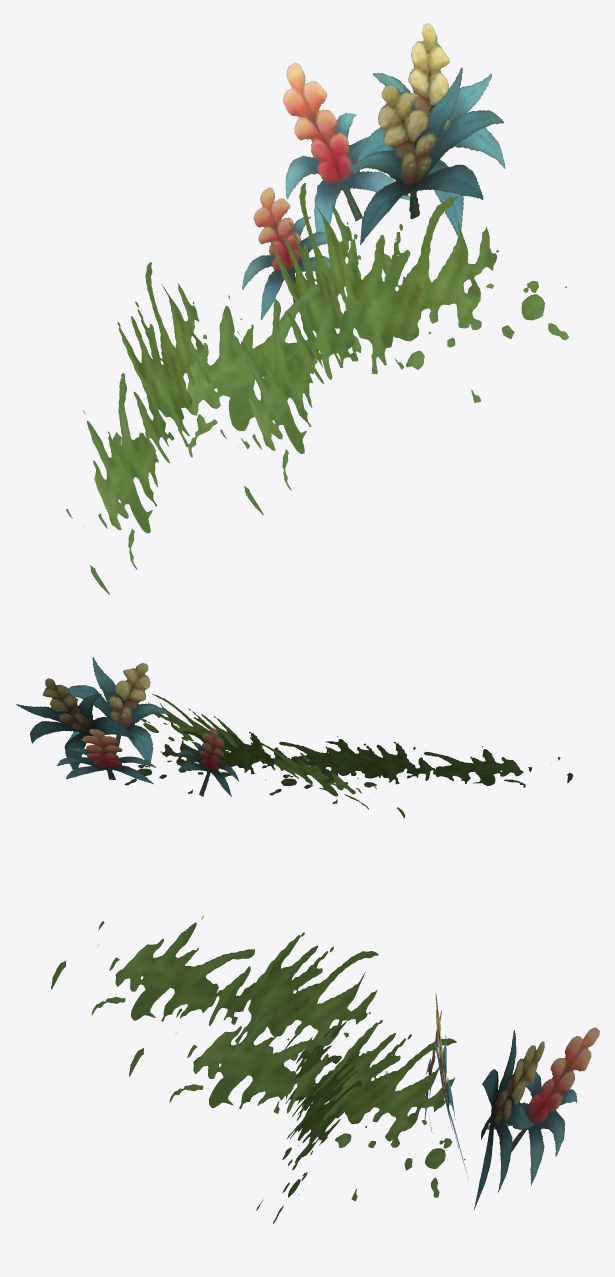
The picture shows the model from 3 angles, top to bottom: view 1: azimuth 30°, elevation 25°; view 2: azimuth 150°, elevation 25°; view 3: azimuth 270°, elevation 25°; orthographic projection. The views are drawn at different scales.
Parts seen in each view (by area): view 1: mesh_21; view 2: mesh_21; view 3: mesh_21.
Boxes of the visible parts, bbox=[...] form: mesh_21: bbox=[66, 23, 568, 594]; mesh_21: bbox=[16, 657, 572, 818]; mesh_21: bbox=[51, 916, 599, 1223].
Bounding box in the file's own units: 1.21 × 0.4019 × 0.9351.
